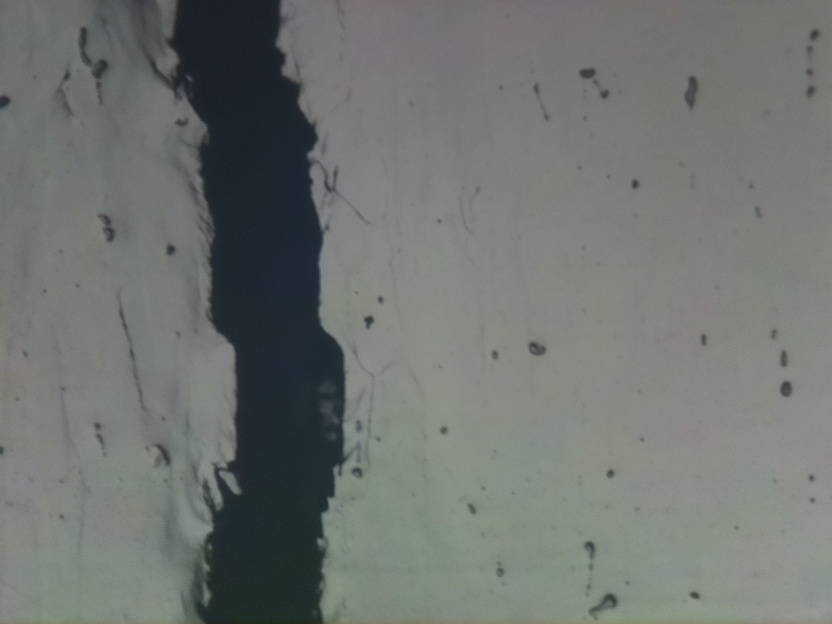crack: (170, 0, 346, 623)
